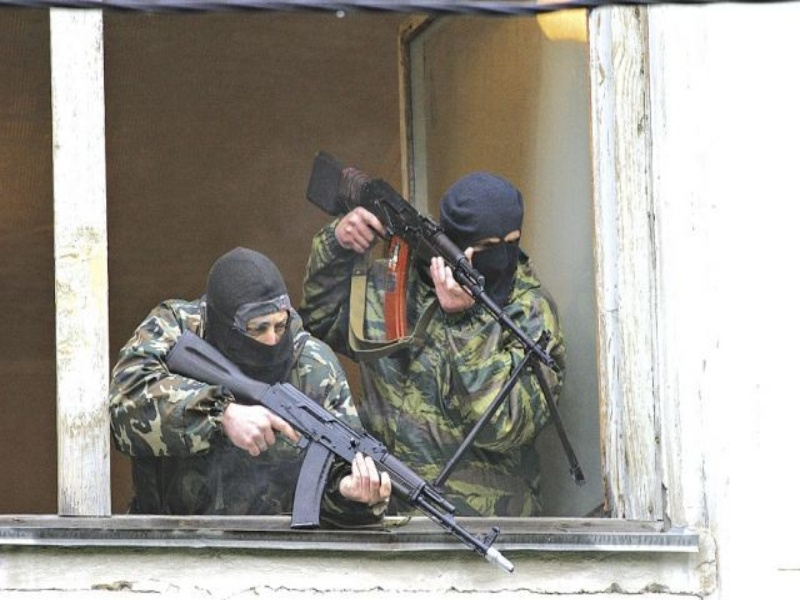person: (297, 174, 566, 516), (109, 247, 392, 522)
weapon: (306, 151, 586, 488), (164, 330, 513, 573)
